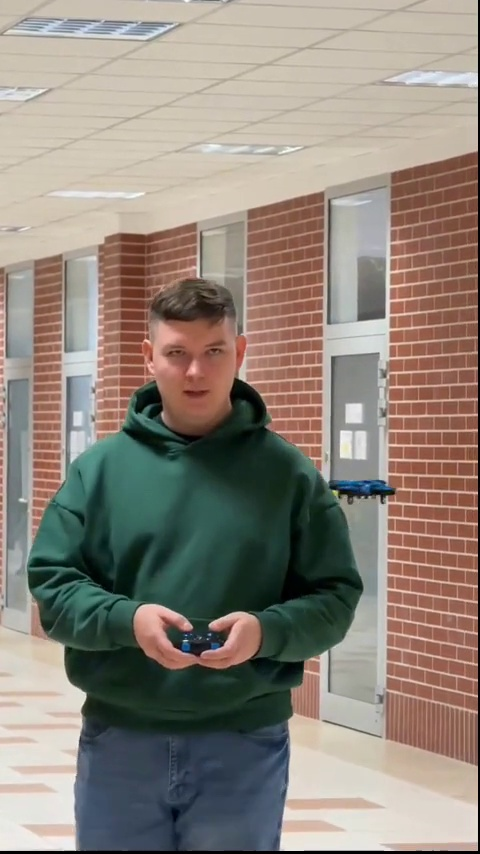drone: (326, 477, 395, 507)
no vest: (31, 279, 363, 829)
